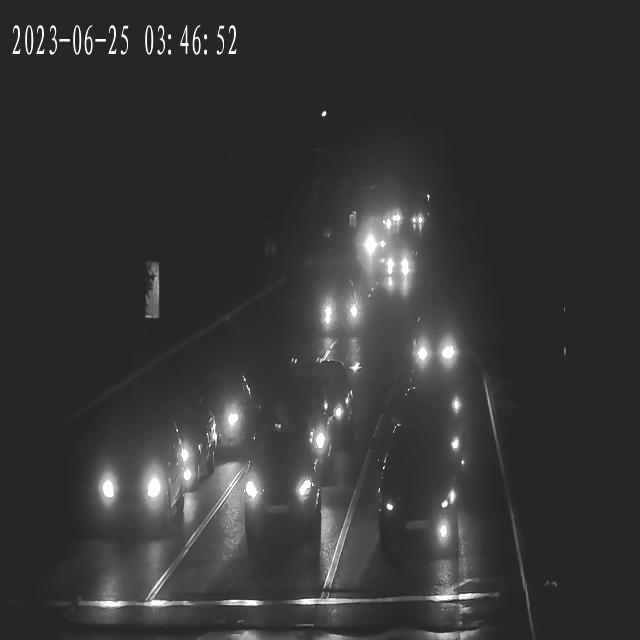Car: (77, 409, 212, 543), (163, 372, 262, 458), (376, 464, 463, 559), (242, 448, 324, 540), (272, 392, 334, 478), (408, 320, 466, 374), (316, 283, 366, 331), (380, 251, 412, 282), (362, 233, 390, 256)
